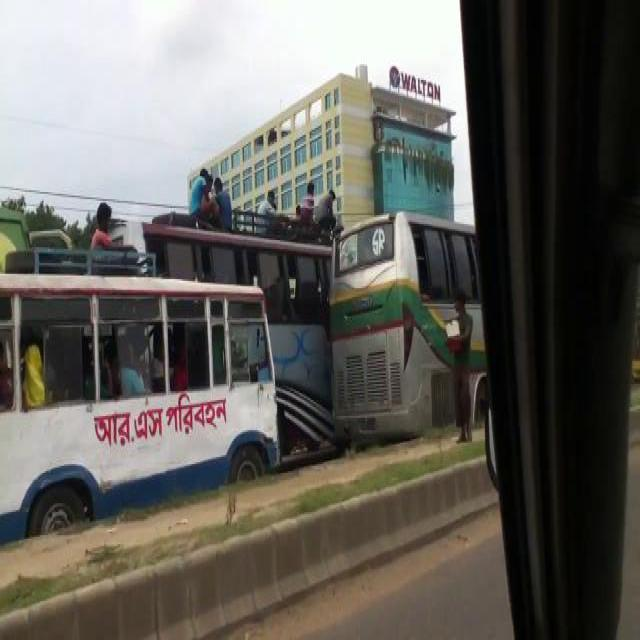bus: (326, 205, 492, 446)
minibus: (0, 239, 282, 550)
